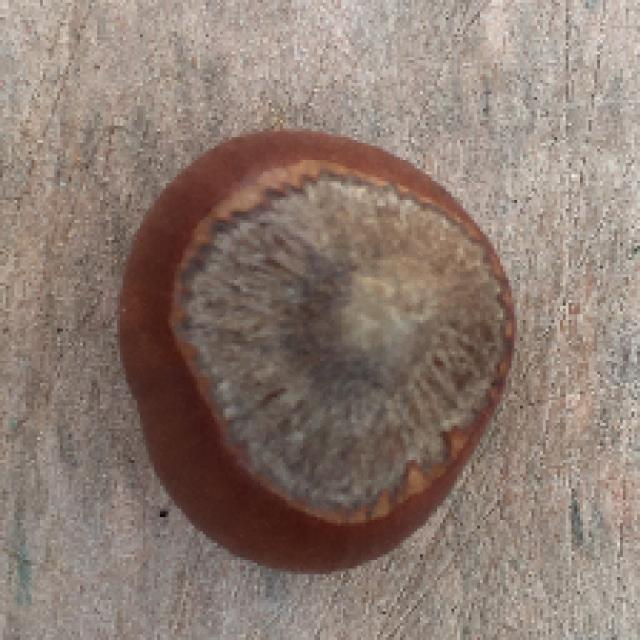qualityHazelnut: (119, 126, 518, 575)
